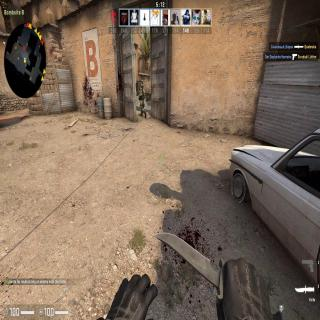CT-Body: (139, 84, 146, 113)
CT-Head: (140, 84, 144, 88)
